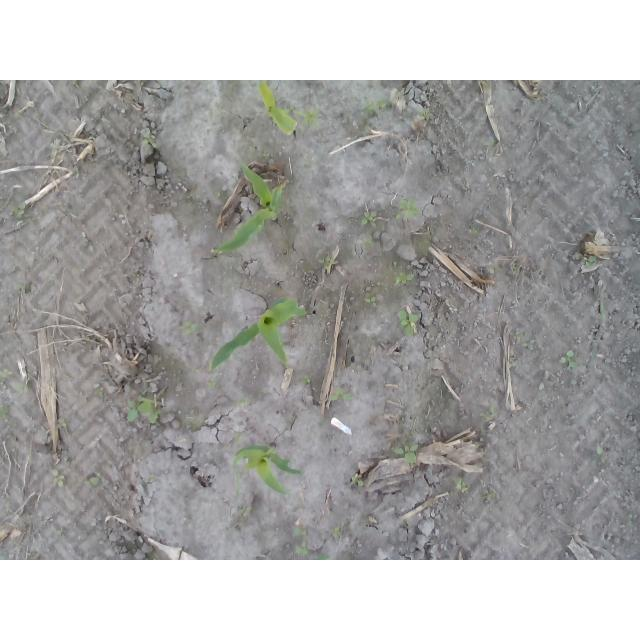Maize: (209, 296, 307, 372), (215, 157, 290, 255), (233, 441, 306, 499), (258, 80, 299, 138)
Weeds: (127, 399, 162, 425), (389, 440, 418, 465), (399, 308, 419, 337), (299, 104, 322, 128), (391, 200, 417, 221), (361, 96, 393, 113), (512, 332, 537, 353), (292, 526, 309, 556), (140, 128, 161, 149), (8, 203, 26, 225), (360, 208, 378, 228), (181, 319, 200, 337), (329, 387, 353, 401), (479, 403, 497, 421), (560, 352, 577, 369), (395, 272, 417, 285), (51, 468, 65, 488), (595, 447, 609, 465), (350, 473, 366, 488), (453, 479, 468, 494), (319, 255, 334, 270), (364, 295, 380, 308), (0, 368, 12, 385), (329, 526, 343, 540), (628, 512, 639, 529), (480, 135, 497, 146), (599, 303, 609, 321), (583, 256, 597, 268), (83, 477, 97, 489), (481, 490, 497, 500), (420, 109, 433, 120), (281, 104, 296, 113), (57, 417, 67, 430), (131, 272, 141, 285), (314, 552, 330, 560), (363, 239, 377, 248), (239, 504, 254, 512), (14, 279, 26, 289), (16, 384, 29, 393), (95, 387, 105, 398), (0, 404, 8, 417), (466, 227, 480, 234), (238, 399, 250, 407), (303, 374, 312, 384), (208, 379, 217, 388), (210, 249, 223, 255)
